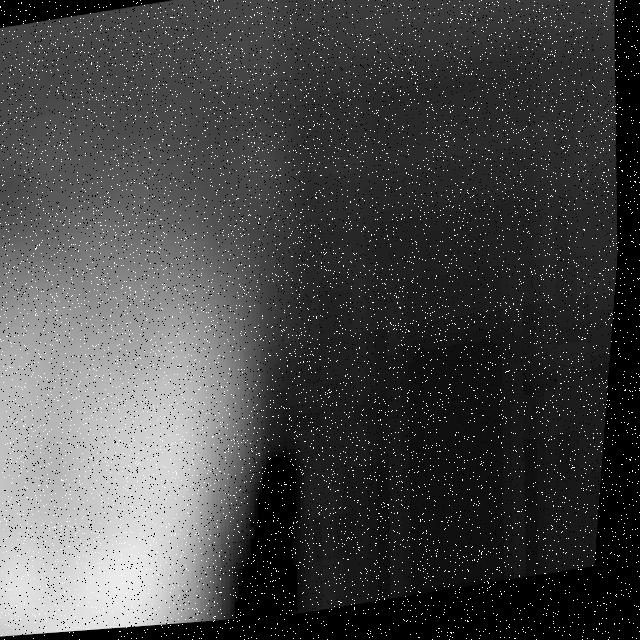person: (1, 124, 291, 640)
